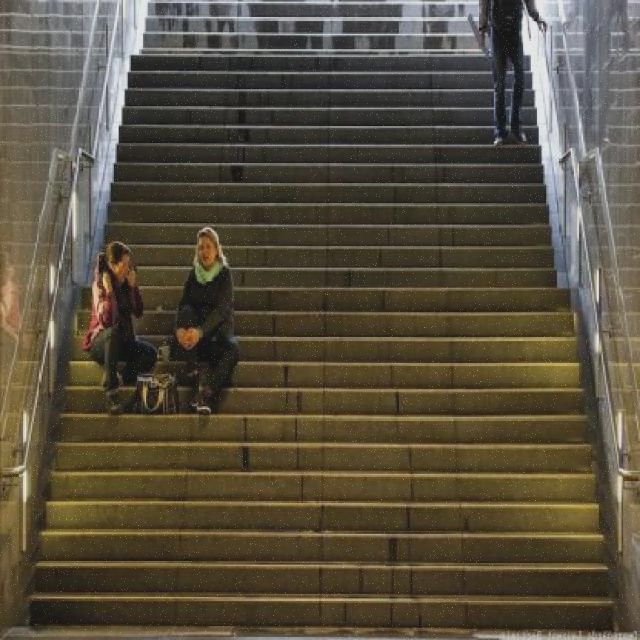stair: (31, 0, 611, 629)
